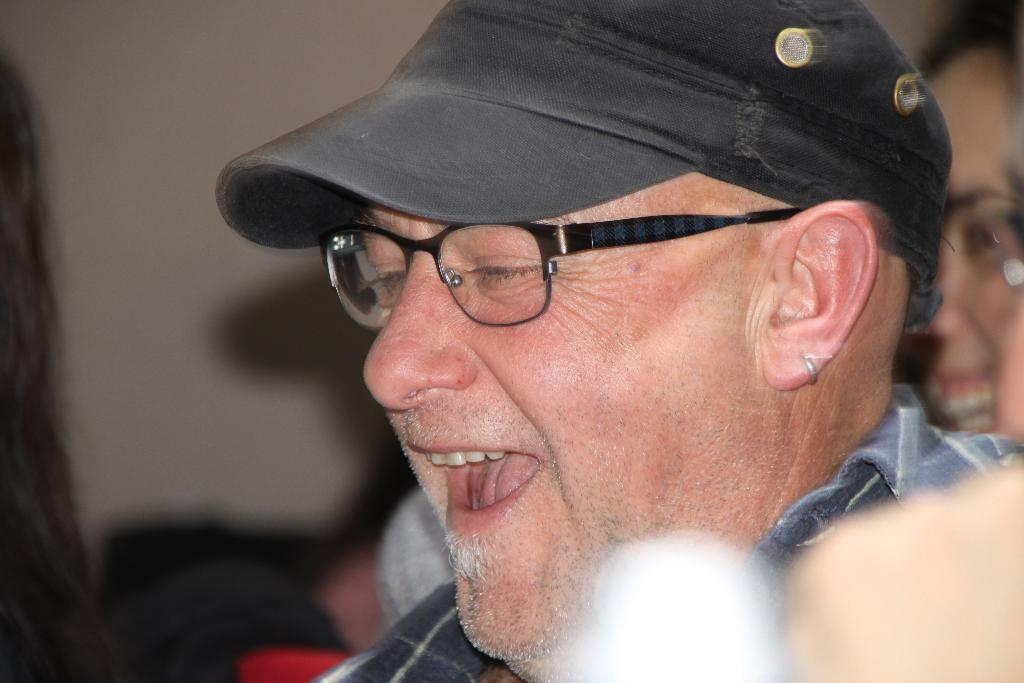Hat: (216, 0, 956, 251)
